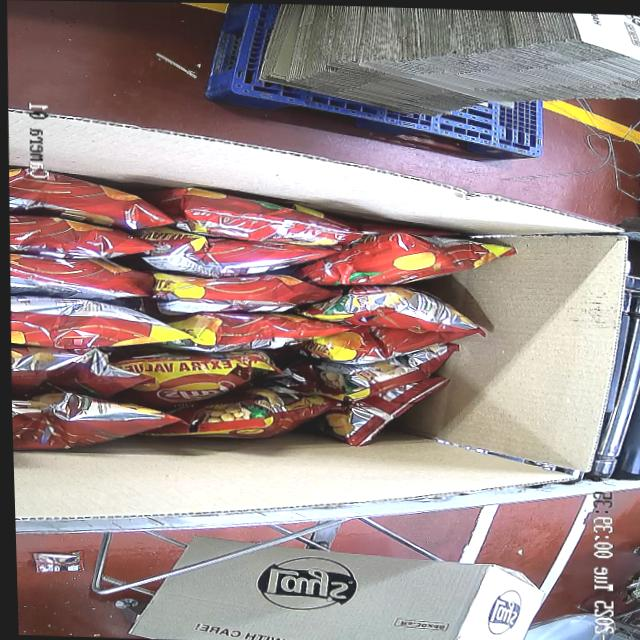MASALA: (5, 166, 522, 467)
